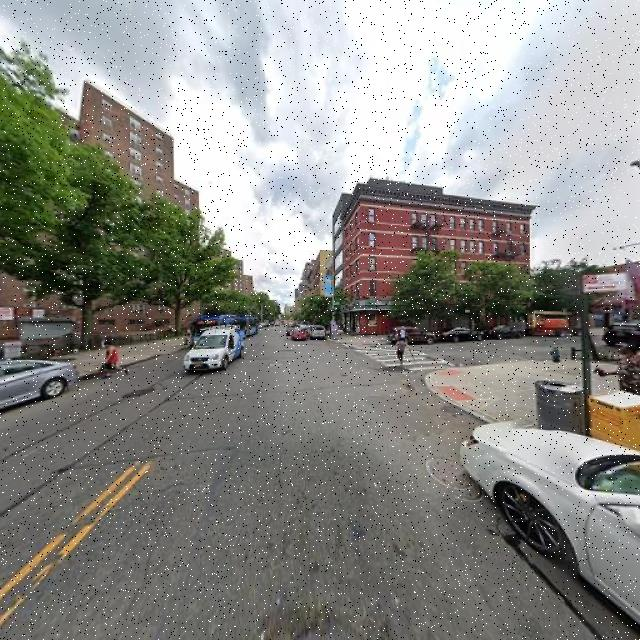Building: (1, 85, 199, 344), (344, 189, 529, 337), (334, 199, 341, 330)
